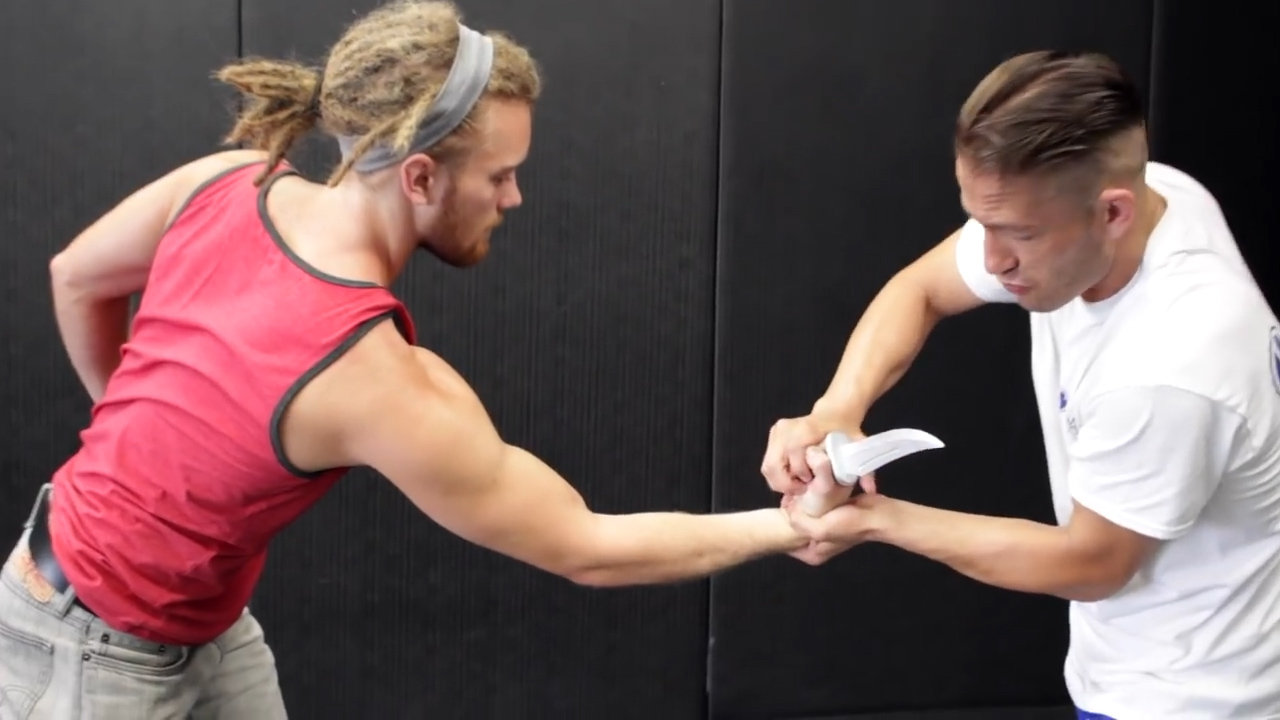knife: (778, 416, 967, 504)
